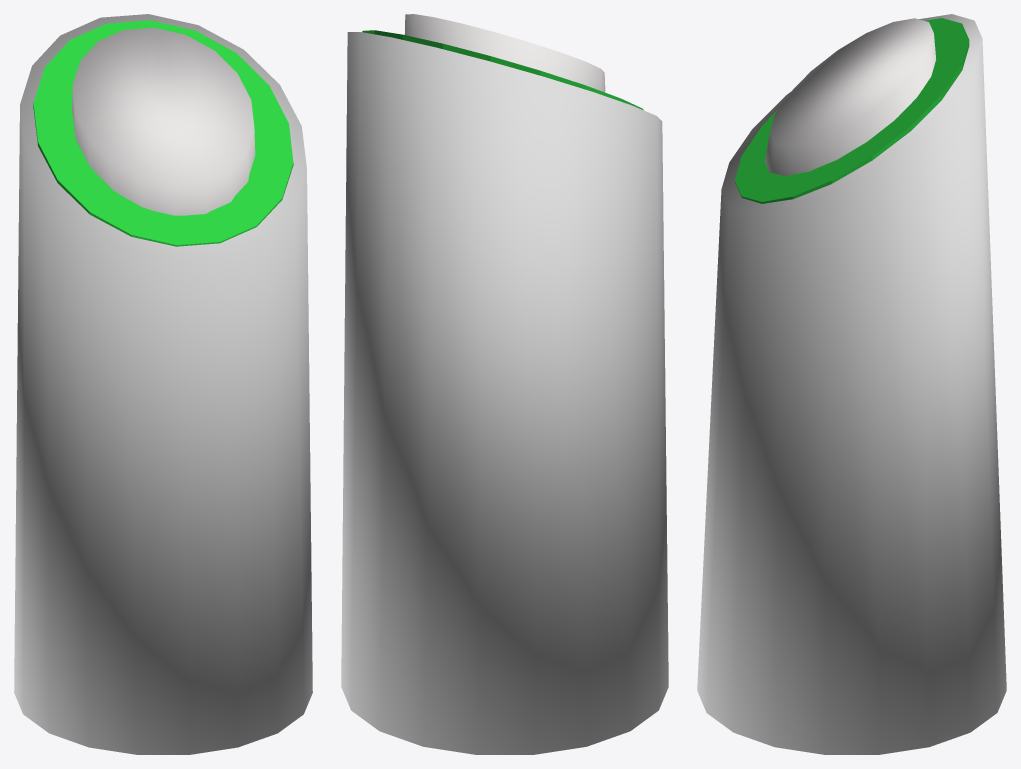
File: ovinappi.fbx
The picture shows the model from 3 angles, left to right: view 1: azimuth 30°, elevation 25°; view 2: azimuth 150°, elevation 25°; view 3: azimuth 270°, elevation 25°; orthographic projection. The views are drawn at different scales.
Visible parts, largest first — view 1: Cylinder, Cylinder.001, Cylinder.002; view 2: Cylinder, Cylinder.001, Cylinder.002; view 3: Cylinder, Cylinder.001, Cylinder.002.
Boxes of the visible parts, x1,y1,x2,y2 form: Cylinder: [14, 14, 312, 754]; Cylinder.001: [72, 27, 255, 215]; Cylinder.002: [33, 20, 293, 246]; Cylinder: [341, 32, 668, 754]; Cylinder.001: [404, 14, 605, 92]; Cylinder.002: [362, 30, 643, 110]; Cylinder: [697, 14, 1006, 754]; Cylinder.001: [765, 18, 936, 176]; Cylinder.002: [734, 18, 969, 203].
Bounding box in the file's own units: 197 × 468 × 200.
